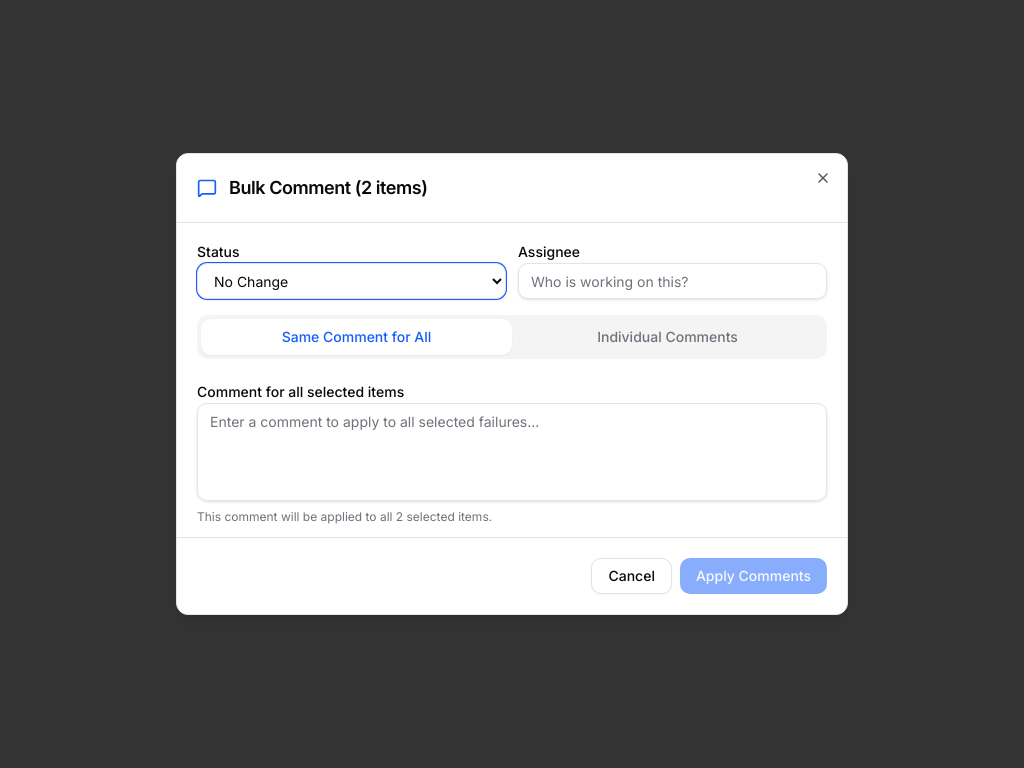
Test: BulkCommentModal › Mode switching › should switch back to same mode
Click the button with test id "mode-individual": x=668, y=337 [512, 319, 823, 355]
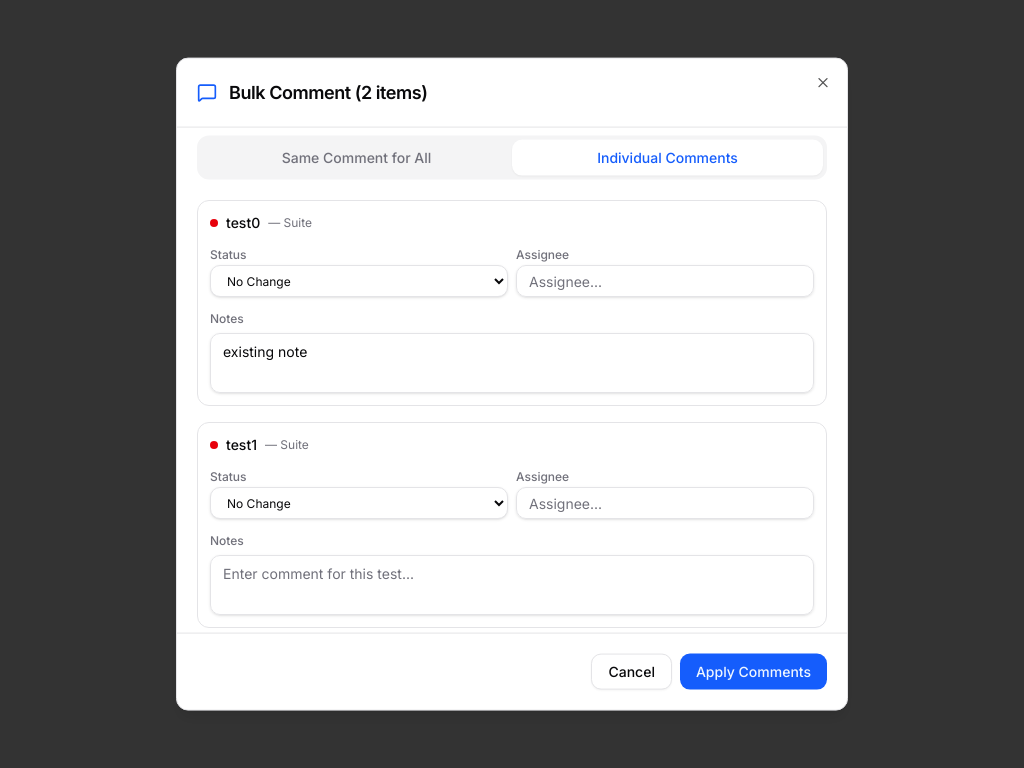
Click the button with test id "mode-same": x=356, y=158 [201, 140, 512, 176]
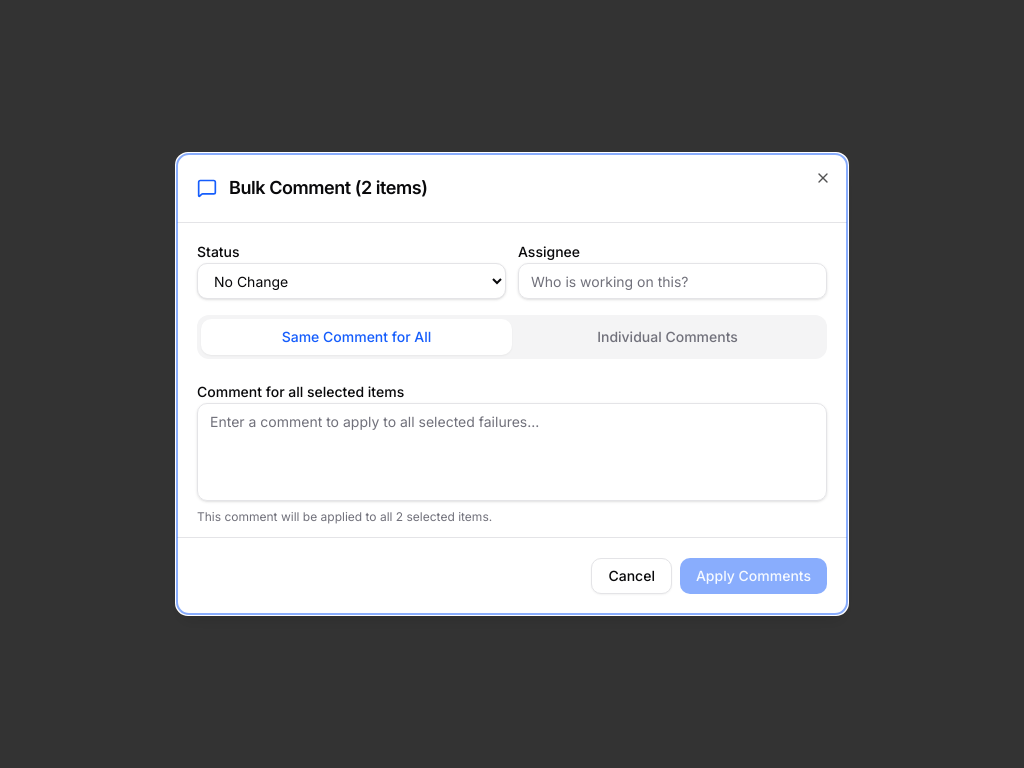
Check: the text box with test id "shared-comment-input" is shown, box [197, 403, 827, 501]
